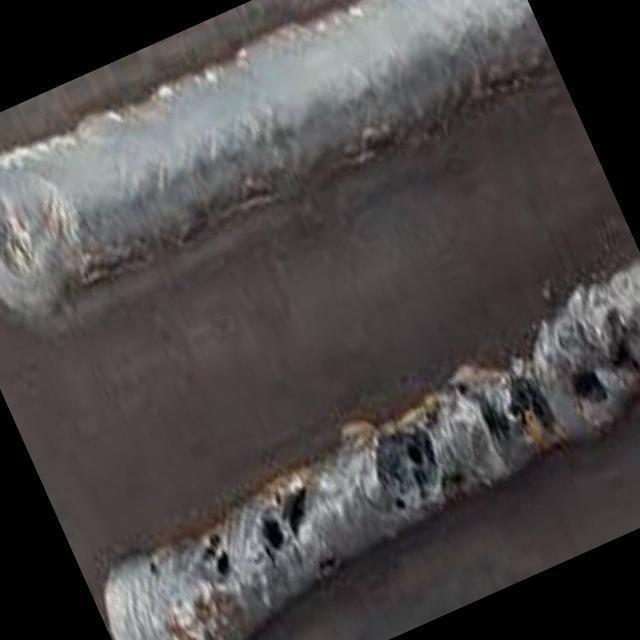defect: (476, 371, 563, 452), (254, 470, 320, 566), (374, 424, 447, 510), (567, 355, 614, 421), (598, 320, 640, 385), (201, 526, 235, 592)
